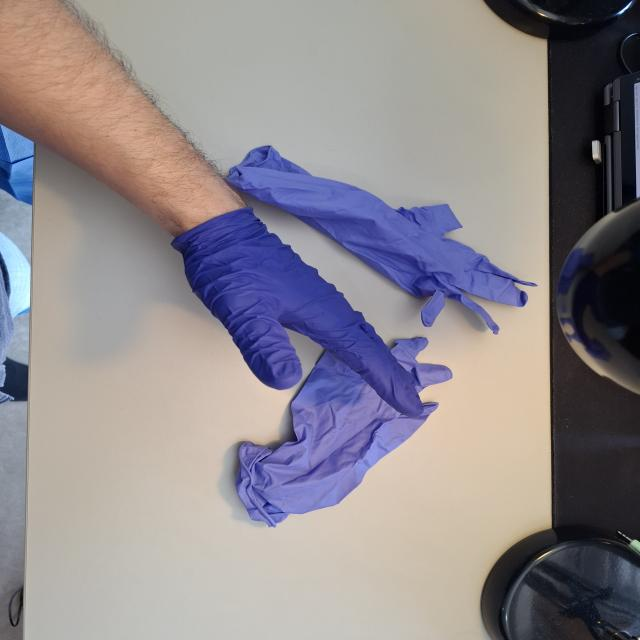glove_on: (166, 201, 426, 421)
